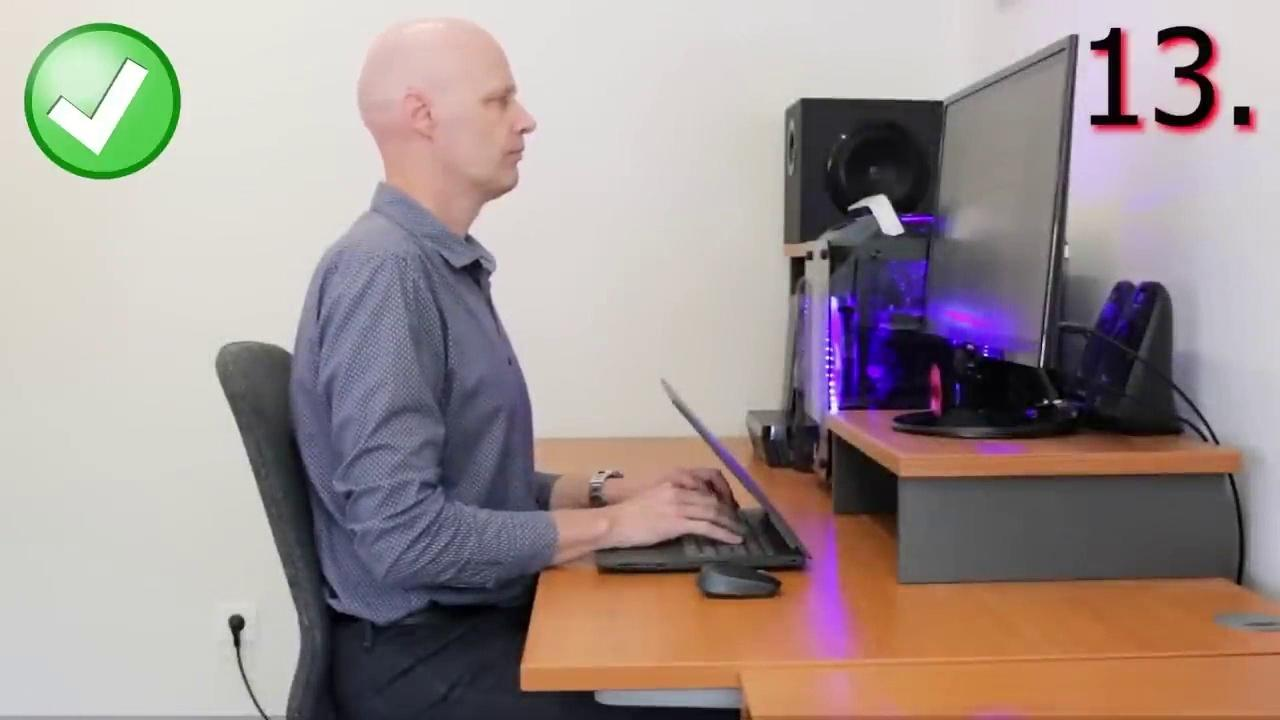GoodPosture: (293, 19, 624, 719)
